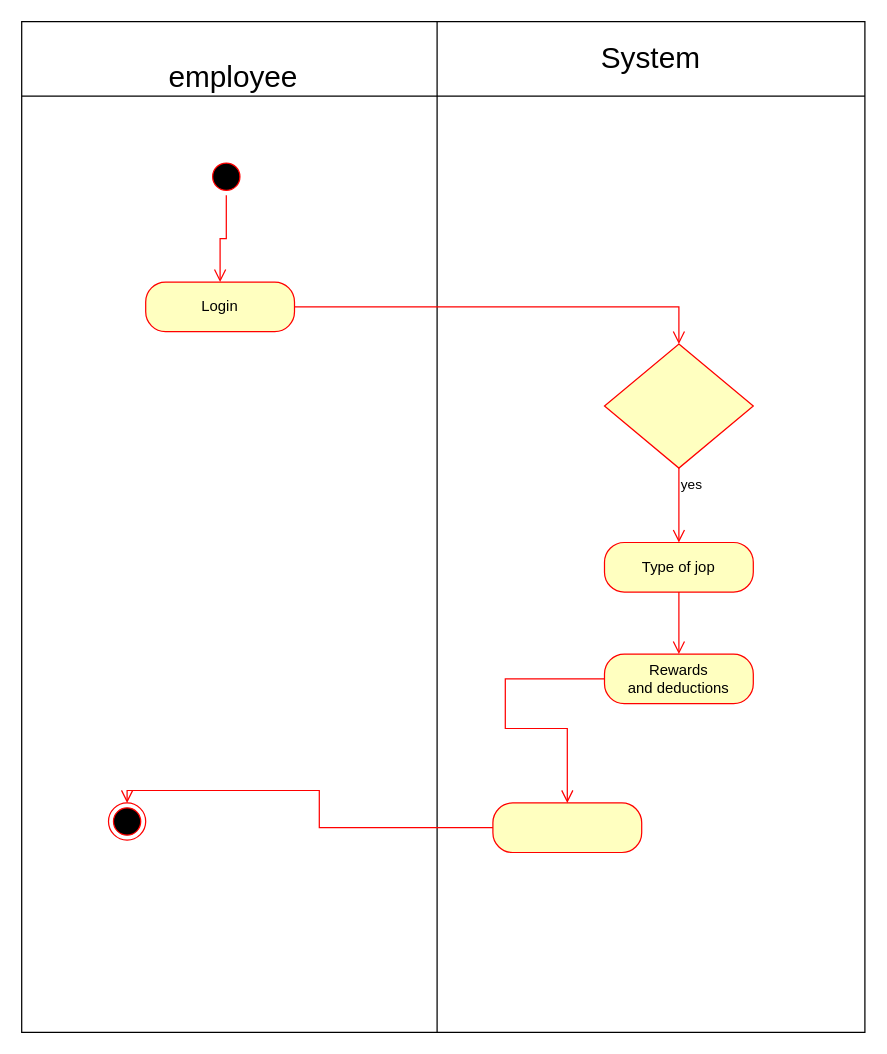
This 887x1054 diagram has some shape labels left out. Here are the shapes that lost their labels. From the top down, the centre of each, then its label:
At pixel 678 405: "Is the password or username correct?".
At pixel 567 827: "salary status".
